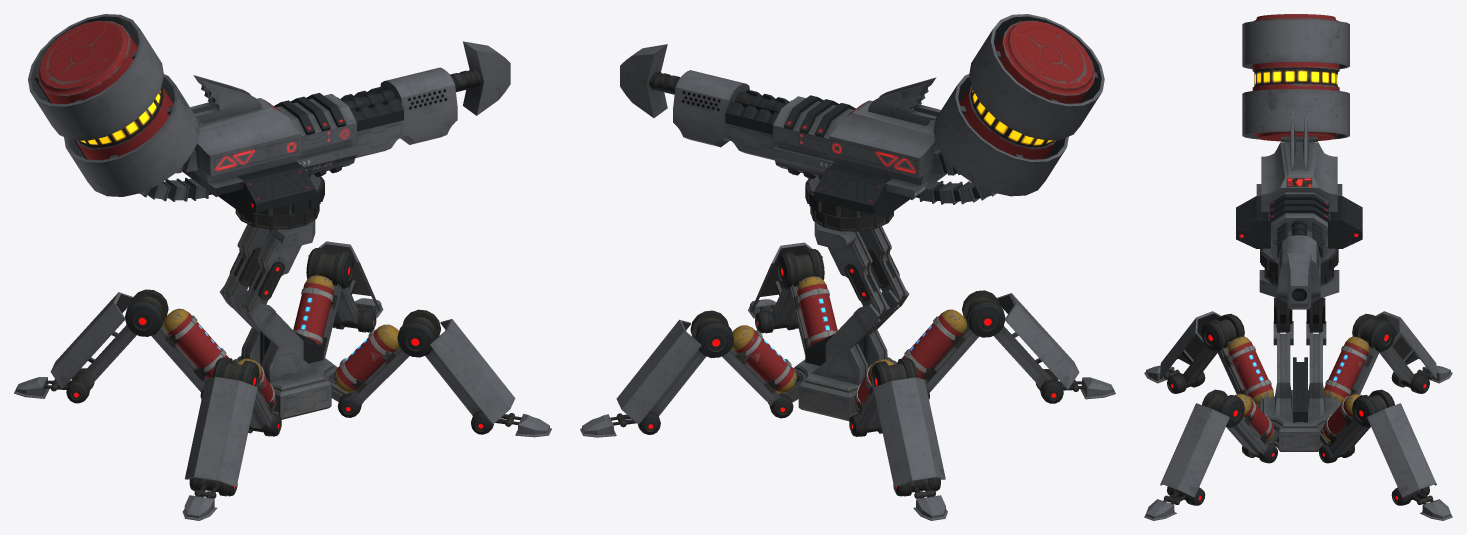
3 renders of one model, left to right at view 1: azimuth 30°, elevation 25°; view 2: azimuth 150°, elevation 25°; view 3: azimuth 270°, elevation 25°, orthographic. The views are drawn at different scales.
Parts seen in each view (by area): view 1: pCube59, polySurface86, polySurface88, polySurface89, polySurface144, polySurface90, pCube34, polySurface118, polySurface82, pCube69, polySurface196, pCube36 (+27 smaller); view 2: pCube59, polySurface86, polySurface88, polySurface89, polySurface196, polySurface90, pCube34, polySurface170, polySurface83, polySurface144, pCube69, pCube36 (+27 smaller); view 3: pCube59, polySurface88, polySurface89, polySurface86, polySurface118, polySurface170, pCube34, pCube69, polySurface90, polySurface131, polySurface183, polySurface82 (+27 smaller).
Boxes of the visible parts, <box> form: pCube59: <box>182,98,315,214</box>; polySurface86: <box>37,20,173,160</box>; polySurface88: <box>28,14,163,140</box>; polySurface89: <box>64,74,199,196</box>; polySurface144: <box>185,376,257,486</box>; polySurface90: <box>352,67,457,158</box>; pCube34: <box>274,93,356,177</box>; polySurface118: <box>430,319,515,424</box>; polySurface82: <box>239,301,317,383</box>; pCube69: <box>233,356,337,419</box>; polySurface196: <box>50,292,133,388</box>; pCube36: <box>463,41,510,115</box>; pCube59: <box>814,100,947,217</box>; polySurface86: <box>959,20,1095,159</box>; polySurface88: <box>969,14,1104,140</box>; polySurface89: <box>933,74,1068,196</box>; polySurface196: <box>873,377,945,487</box>; polySurface90: <box>673,70,777,160</box>; pCube34: <box>773,95,855,179</box>; polySurface170: <box>616,319,701,424</box>; polySurface83: <box>811,304,889,384</box>; polySurface144: <box>997,293,1079,389</box>; pCube69: <box>793,357,897,421</box>; pCube36: <box>620,44,667,117</box>; pCube59: <box>1236,142,1362,248</box>; polySurface88: <box>1242,19,1349,69</box>; polySurface89: <box>1242,89,1349,139</box>; polySurface86: <box>1252,14,1339,141</box>; polySurface118: <box>1160,403,1229,497</box>; polySurface170: <box>1367,403,1436,497</box>; pCube34: <box>1269,192,1329,263</box>; pCube69: <box>1258,390,1340,451</box>; polySurface90: <box>1278,231,1320,303</box>; polySurface131: <box>1227,336,1273,405</box>; polySurface183: <box>1324,336,1369,404</box>; polySurface82: <box>1273,321,1293,416</box>.
Size of the model in its own units: 233 by 203 by 156.
Materials: 1 (1 with a texture image).
